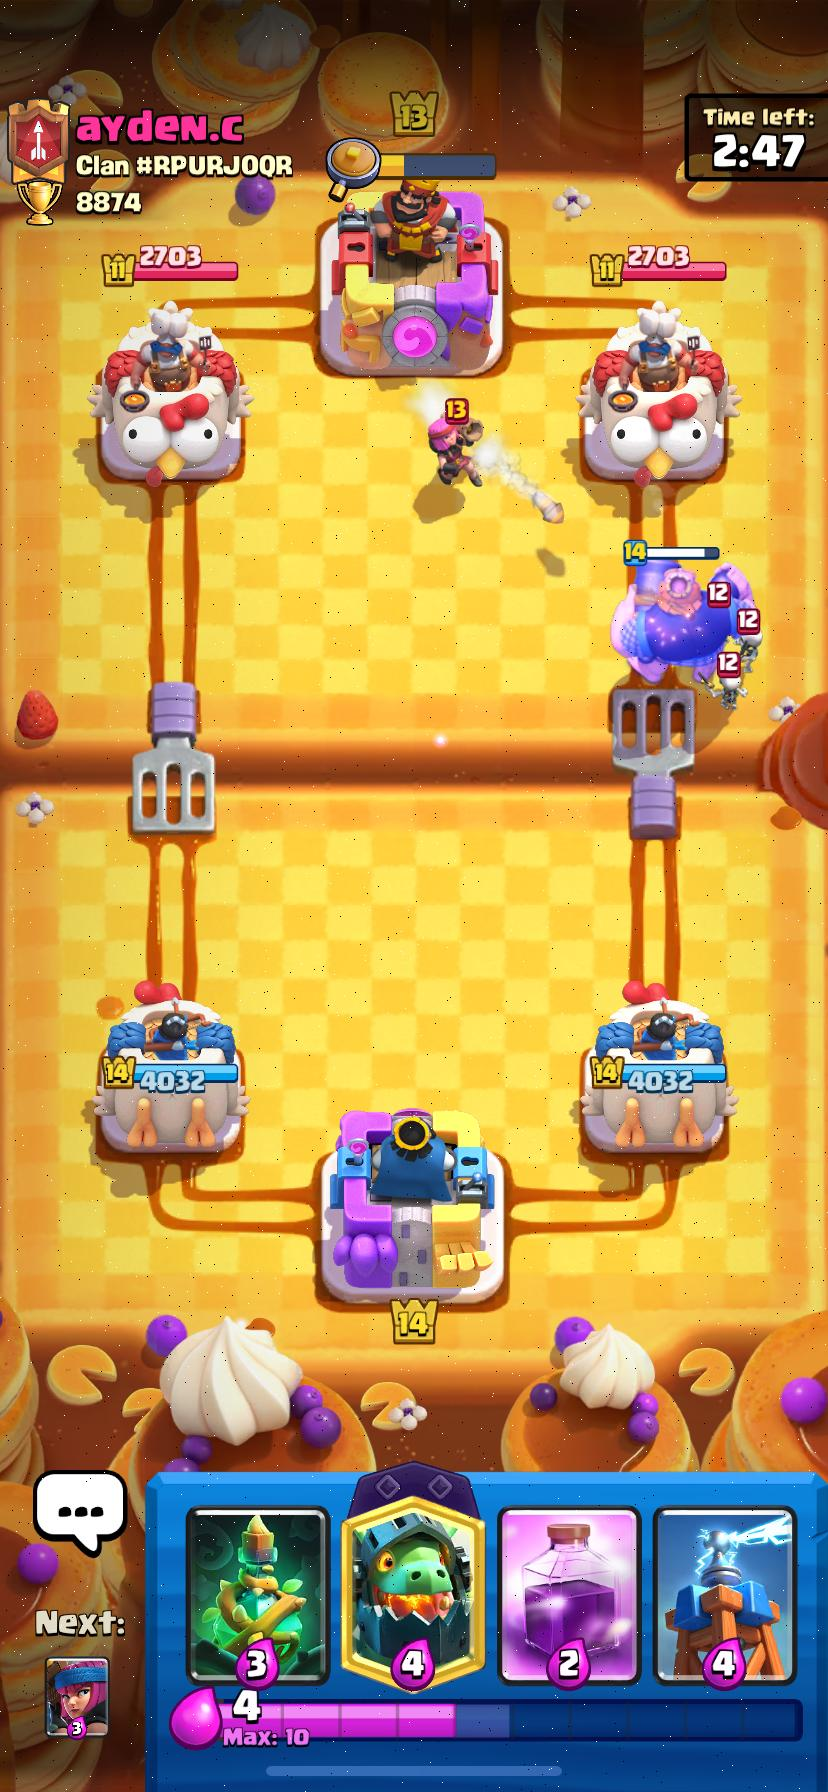EFirecrack: (428, 398, 481, 486)
EKingTower: (320, 174, 503, 379)
ELarry: (694, 640, 750, 715), (737, 606, 761, 677)
EnemyPanTower: (578, 302, 739, 488), (90, 301, 250, 486)
ORoyalG: (611, 555, 753, 682)
OwnKingTower: (321, 1109, 503, 1303)
OwnPrincessTower: (580, 982, 737, 1154), (93, 983, 248, 1152)
